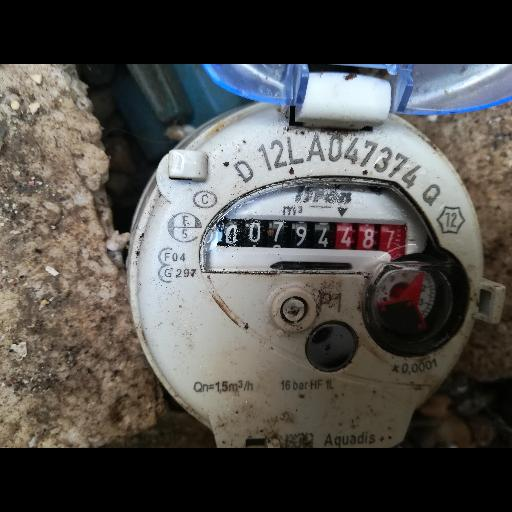0: (241, 219, 264, 248), (223, 219, 242, 247)
4: (311, 223, 333, 250), (335, 223, 355, 250)
7: (378, 224, 406, 255), (264, 220, 287, 249)
8: (357, 225, 378, 252)
9: (290, 222, 309, 249)
border_water_meter_number: (219, 204, 412, 258)
